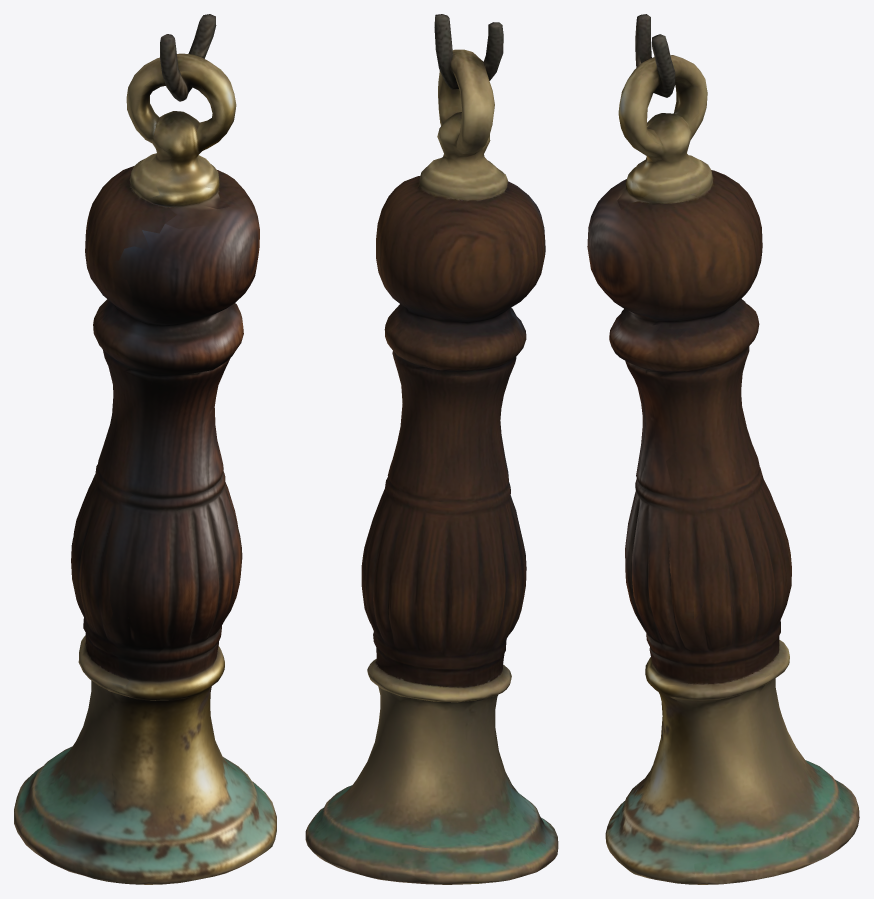
The model's file is whistle.fbx.
The picture shows the model from 3 angles, left to right: view 1: azimuth 30°, elevation 25°; view 2: azimuth 150°, elevation 25°; view 3: azimuth 270°, elevation 25°; orthographic projection. The views are drawn at different scales.
Parts seen in each view (by area): view 1: Mesh_0.001; view 2: Mesh_0.001; view 3: Mesh_0.001.
Part boxes in pixels (<box>): Mesh_0.001: <box>14,14,276,884</box>; Mesh_0.001: <box>305,14,558,884</box>; Mesh_0.001: <box>587,14,859,884</box>.
Bounding box in the file's own units: 0.2541 × 0.8855 × 0.2678.
Materials: 1 (1 with a texture image).
